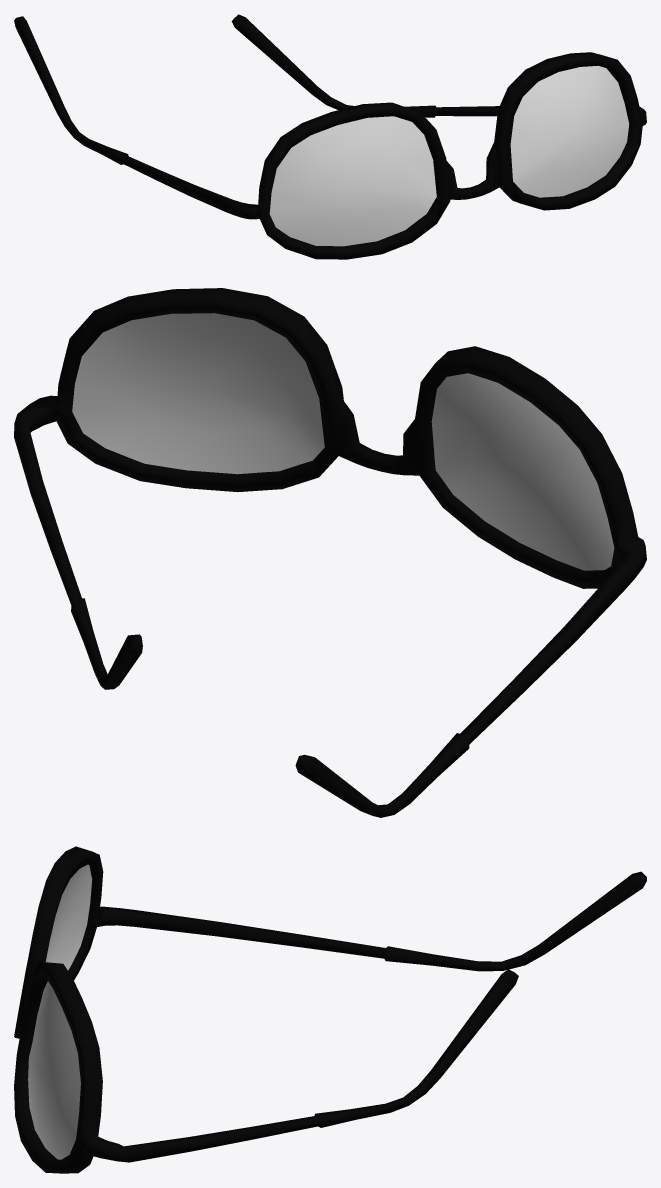
File: Glasses.fbx
3 views of the same model, one above another, from view 1: azimuth 30°, elevation 25°; view 2: azimuth 150°, elevation 25°; view 3: azimuth 270°, elevation 25° (orthographic). The views are drawn at different scales.
Visible parts, largest first — view 1: Sun_Glasses_Merged3; view 2: Sun_Glasses_Merged3; view 3: Sun_Glasses_Merged3.
Boxes of the visible parts, x1,y1,x2,y2 form: Sun_Glasses_Merged3: [14, 14, 646, 259]; Sun_Glasses_Merged3: [14, 288, 646, 817]; Sun_Glasses_Merged3: [14, 846, 646, 1173].
Size of the model in its own units: 0.1423 by 0.0469 by 0.1574.
